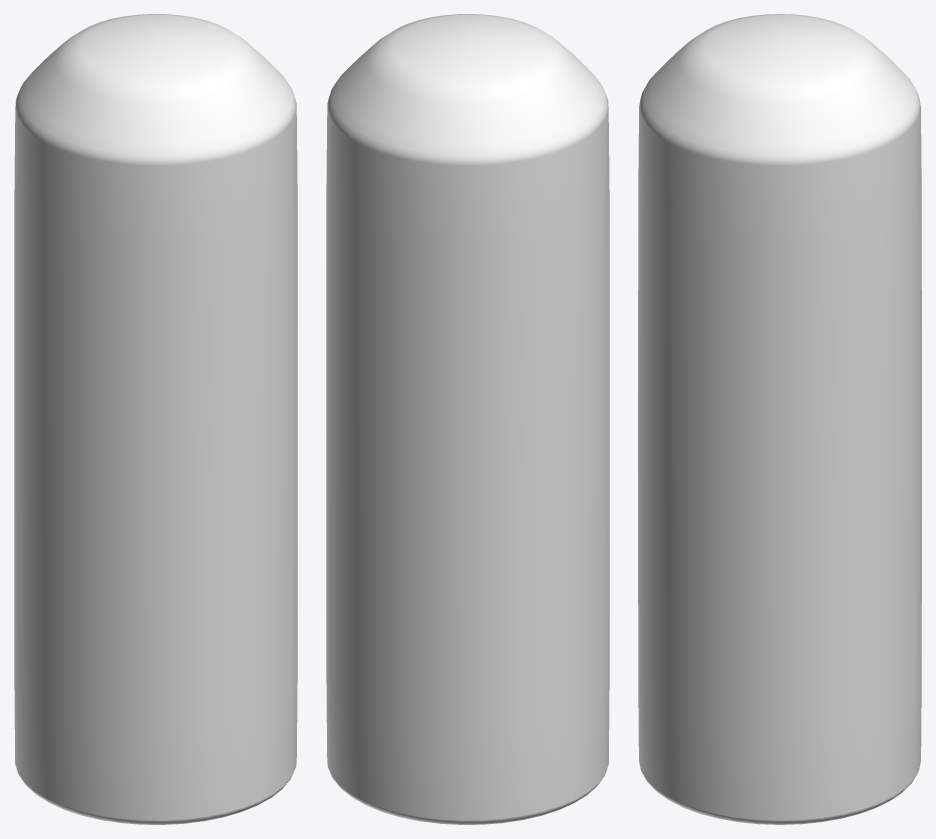
3 views of the same model, side by side, from view 1: azimuth 30°, elevation 25°; view 2: azimuth 150°, elevation 25°; view 3: azimuth 270°, elevation 25° (orthographic).
Parts seen in each view (by area): view 1: PN_7000_12_; view 2: PN_7000_12_; view 3: PN_7000_12_.
Part boxes in pixels (x1,y1,x2,y2): PN_7000_12_: (14,14,297,824); PN_7000_12_: (326,14,609,824); PN_7000_12_: (638,14,921,824).
Bounding box in the file's own units: 3.12 × 8.89 × 3.12.
Materials: 1 (1 with a texture image).
